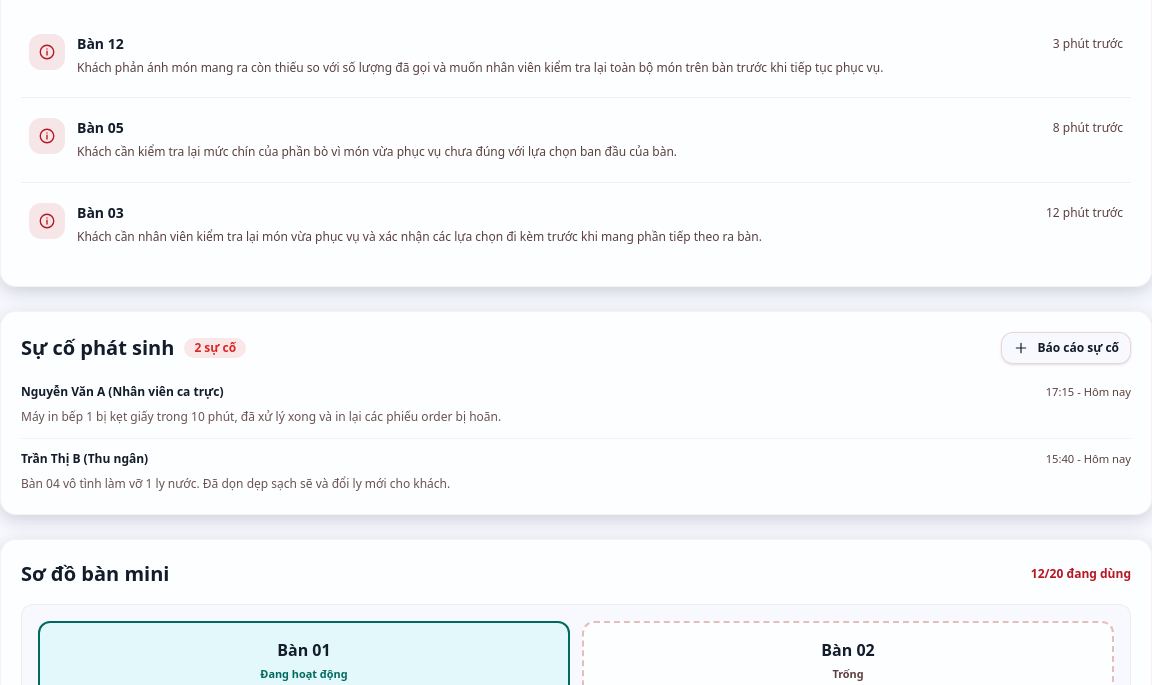
Test: OperatorDashboardPage › allows reporting operational incidents from the dashboard
(page scrolled)
Expected: the heading "Sự cố phát sinh" is shown, [21,334,174,362]
Expected: the text "2 sự cố" is shown, [184,338,246,358]
Click the button "Báo cáo sự cố" at coordinates (1066, 348), box [1001,332,1131,364]
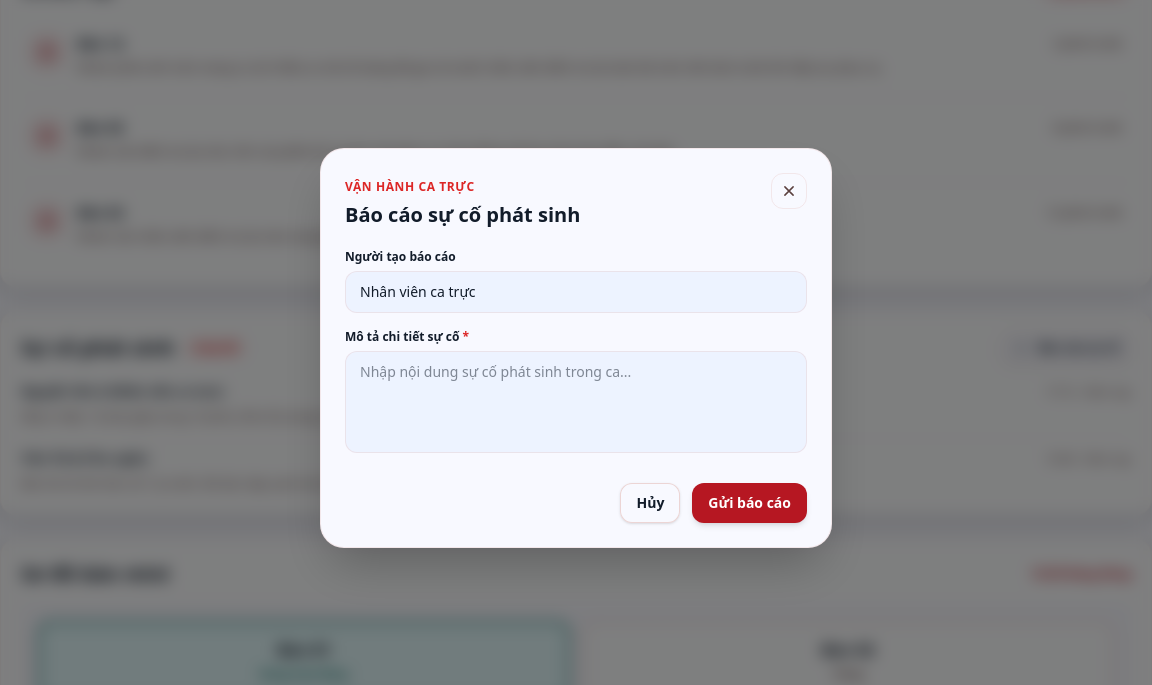
Now the dialog "Báo cáo sự cố phát sinh" is shown, box [320,148,832,548]
Type "Bếp hết gia vị sốt cay đột xuất" into the text box with placeholder "Nhập nội dung sự cố phát sinh trong ca..." at coordinates (576, 402), box [345,351,807,453]
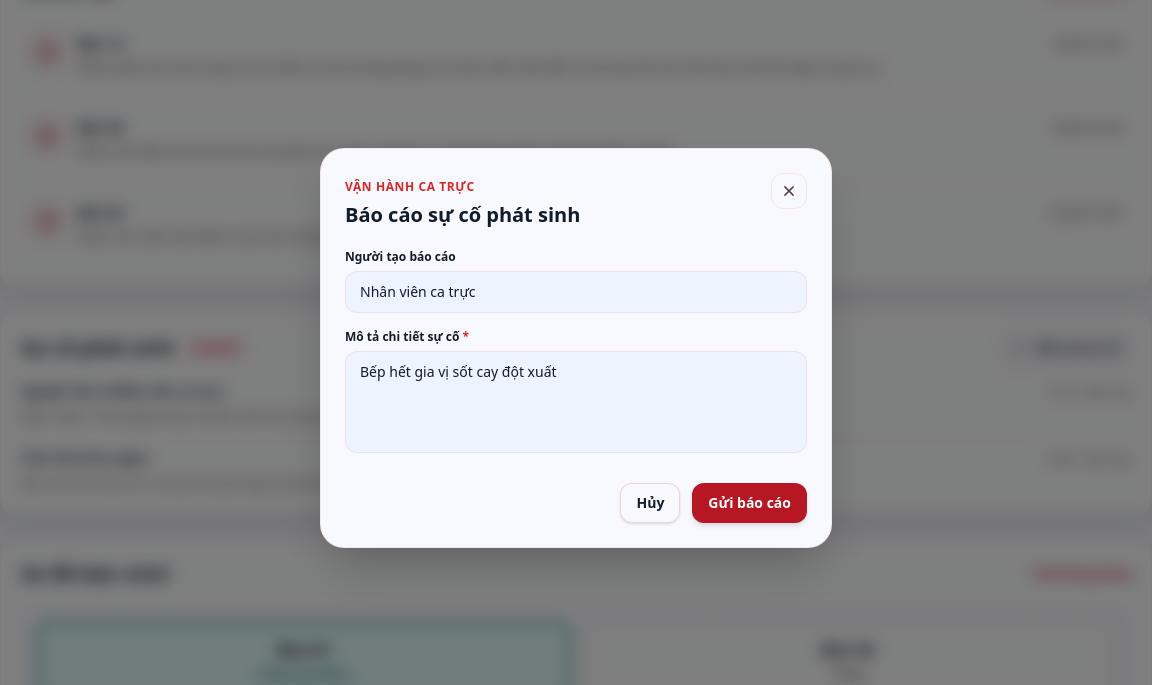
Click the button "Gửi báo cáo" at coordinates (750, 503), box [692,483,807,523]
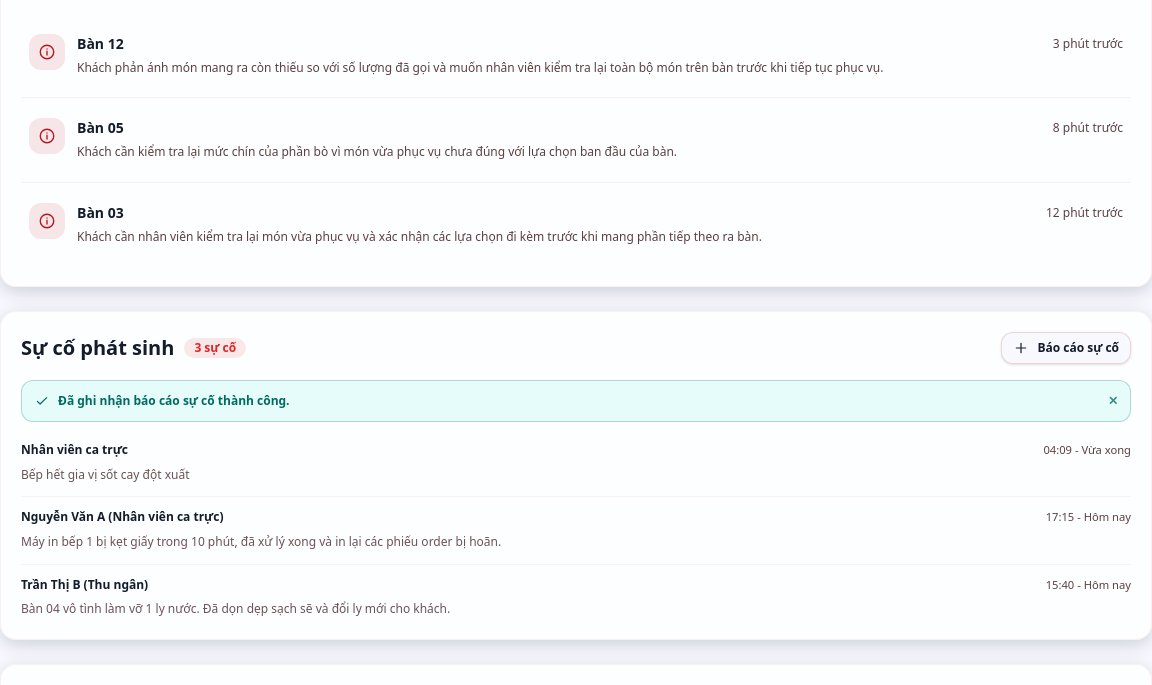
Now the text "Đã ghi nhận báo cáo sự cố thành công." is shown, box [58,393,290,409]
Now the text "Bếp hết gia vị sốt cay đột xuất" is shown, box [21,466,190,483]
Now the text "3 sự cố" is shown, box [184,338,246,358]
